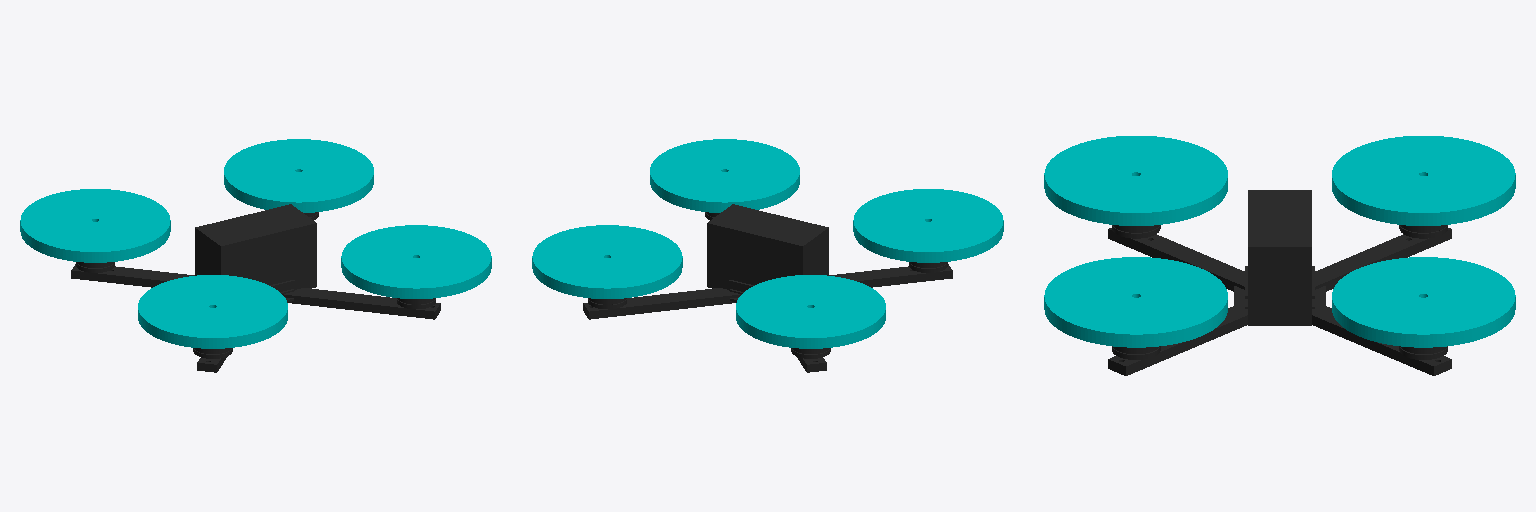
The robot description file, URDF, robot "Prototype_V1":
<?xml version="1.0"?>
<robot name="Prototype_V1">

  <link name="base_link">
    <inertial>
      <origin rpy="0 0 0" xyz="0 0 0"/>
      <mass value="0.45"/>
      <inertia ixx="0.00145817" ixy="0" ixz="0" iyy="0.00145817" iyz="0" izz="0.00271354"/>
    </inertial>
    <visual>
      <origin rpy="0 0 0" xyz="0 0 0"/>
      <geometry>
        <mesh filename="base.stl" scale="0.001 0.001 0.001"/> 
      </geometry>
      <material name="grey">
        <color rgba="0.2 0.2 0.2 1.0"/>
      </material>
    </visual>
    <collision>
      <origin rpy="0 0 0" xyz="0 0 0"/>
      <geometry>
        <mesh filename="base.stl" scale="0.001 0.001 0.001"/>
      </geometry>
    </collision>
  </link>


  <link name="prop_fl">
    <inertial>
      <origin rpy="0 0 0" xyz="0 0 0"/>
      <mass value="0.004"/>
      <inertia ixx="0.00000346" ixy="0" ixz="0" iyy="0.00000346" iyz="0" izz="0.00000688"/>
    </inertial>
    <visual>
      <origin rpy="0 0 0" xyz="0 0 0"/>
      <geometry>
        <mesh filename="prop.stl" scale="0.001 0.001 0.001"/>
      </geometry>
      <material name="cyan">
        <color rgba="0 0.8 0.8 1.0"/>
      </material>
    </visual>
    <collision>
      <origin rpy="0 0 0" xyz="0 0 0"/>
      <geometry>
        <cylinder length="0.01" radius="0.0508"/>
      </geometry>
    </collision>
  </link>

  <joint name="joint_prop_fl" type="continuous">
    <parent link="base_link"/>
    <child link="prop_fl"/>
    <origin rpy="0 0 0" xyz="0.07954951275000001 0.07954951275000001 0.031"/>
    <axis xyz="0 0 1"/>
  </joint>

  <link name="prop_fr">
    <inertial>
      <origin rpy="0 0 0" xyz="0 0 0"/>
      <mass value="0.004"/>
      <inertia ixx="0.00000346" ixy="0" ixz="0" iyy="0.00000346" iyz="0" izz="0.00000688"/>
    </inertial>
    <visual>
      <origin rpy="0 0 0" xyz="0 0 0"/>
      <geometry>
        <mesh filename="prop.stl" scale="0.001 0.001 0.001"/>
      </geometry>
      <material name="cyan">
        <color rgba="0 0.8 0.8 1.0"/>
      </material>
    </visual>
    <collision>
      <origin rpy="0 0 0" xyz="0 0 0"/>
      <geometry>
        <cylinder length="0.01" radius="0.0508"/>
      </geometry>
    </collision>
  </link>

  <joint name="joint_prop_fr" type="continuous">
    <parent link="base_link"/>
    <child link="prop_fr"/>
    <origin rpy="0 0 0" xyz="0.07954951275000001 -0.07954951275000001 0.031"/>
    <axis xyz="0 0 1"/>
  </joint>

  <link name="prop_rl">
    <inertial>
      <origin rpy="0 0 0" xyz="0 0 0"/>
      <mass value="0.004"/>
      <inertia ixx="0.00000346" ixy="0" ixz="0" iyy="0.00000346" iyz="0" izz="0.00000688"/>
    </inertial>
    <visual>
      <origin rpy="0 0 0" xyz="0 0 0"/>
      <geometry>
        <mesh filename="prop.stl" scale="0.001 0.001 0.001"/>
      </geometry>
      <material name="cyan">
        <color rgba="0 0.8 0.8 1.0"/>
      </material>
    </visual>
    <collision>
      <origin rpy="0 0 0" xyz="0 0 0"/>
      <geometry>
        <cylinder length="0.01" radius="0.0508"/>
      </geometry>
    </collision>
  </link>

  <joint name="joint_prop_rl" type="continuous">
    <parent link="base_link"/>
    <child link="prop_rl"/>
    <origin rpy="0 0 0" xyz="-0.07954951275000001 0.07954951275000001 0.031"/>
    <axis xyz="0 0 1"/>
  </joint>

  <link name="prop_rr">
    <inertial>
      <origin rpy="0 0 0" xyz="0 0 0"/>
      <mass value="0.004"/>
      <inertia ixx="0.00000346" ixy="0" ixz="0" iyy="0.00000346" iyz="0" izz="0.00000688"/>
    </inertial>
    <visual>
      <origin rpy="0 0 0" xyz="0 0 0"/>
      <geometry>
        <mesh filename="prop.stl" scale="0.001 0.001 0.001"/>
      </geometry>
      <material name="cyan">
        <color rgba="0 0.8 0.8 1.0"/>
      </material>
    </visual>
    <collision>
      <origin rpy="0 0 0" xyz="0 0 0"/>
      <geometry>
        <cylinder length="0.01" radius="0.0508"/>
      </geometry>
    </collision>
  </link>

  <joint name="joint_prop_rr" type="continuous">
    <parent link="base_link"/>
    <child link="prop_rr"/>
    <origin rpy="0 0 0" xyz="-0.07954951275000001 -0.07954951275000001 0.031"/>
    <axis xyz="0 0 1"/>
  </joint>
</robot>

--- Render facts (derived) ---
Views: 3 orthographic renders of the robot side by side, from view 1: azimuth 30°, elevation 25°; view 2: azimuth 150°, elevation 25°; view 3: azimuth 270°, elevation 25°.
Model Prototype_V1 with 5 links and 4 joints (4 continuous), rooted at base_link, posed all joints at 0.
Visible links, largest first — view 1: base_link, prop_fr, prop_rl, prop_rr, prop_fl; view 2: base_link, prop_fl, prop_rr, prop_rl, prop_fr; view 3: base_link, prop_fl, prop_fr, prop_rl, prop_rr.
Boxes of the visible links, x1,y1,x2,y2 form: base_link: (71, 204, 440, 372); prop_fr: (341, 225, 491, 298); prop_rl: (20, 189, 170, 262); prop_rr: (138, 275, 287, 348); prop_fl: (224, 139, 373, 212); base_link: (583, 204, 952, 372); prop_fl: (532, 225, 682, 298); prop_rr: (853, 189, 1003, 262); prop_rl: (736, 275, 885, 348); prop_fr: (650, 139, 799, 212); base_link: (1108, 190, 1451, 375); prop_fl: (1332, 257, 1515, 347); prop_fr: (1044, 257, 1227, 347); prop_rl: (1332, 136, 1515, 225); prop_rr: (1044, 136, 1227, 225).
Bounding box of the posed robot: 0.2607 × 0.2607 × 0.052 m (x, y, z).
5 mesh visuals loaded from 2 distinct referenced files (2 binary STL).